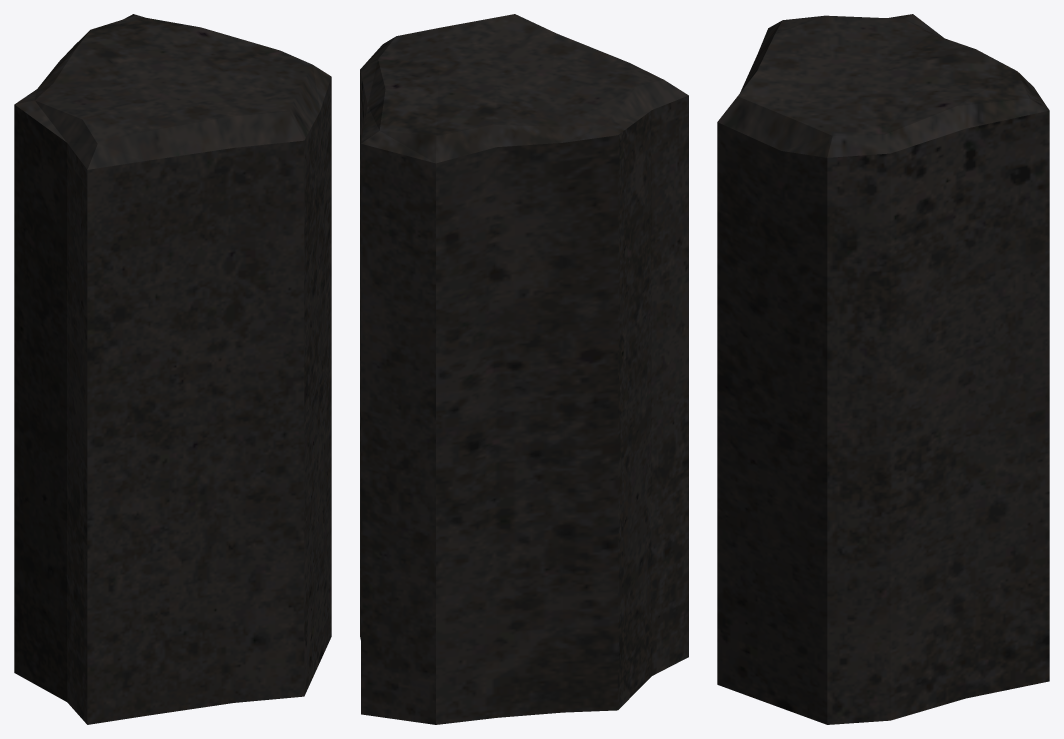
File: TrapFloorS01.fbx
The picture shows the model from 3 angles, left to right: view 1: azimuth 30°, elevation 25°; view 2: azimuth 150°, elevation 25°; view 3: azimuth 270°, elevation 25°; orthographic projection.
Visible parts, largest first — view 1: SM_ENV_NATURE_Cave_Floor_Trap_17.mo; view 2: SM_ENV_NATURE_Cave_Floor_Trap_17.mo; view 3: SM_ENV_NATURE_Cave_Floor_Trap_17.mo.
Part boxes in pixels (box(x1,y1,x2,y2)): SM_ENV_NATURE_Cave_Floor_Trap_17.mo: box(14, 14, 331, 724); SM_ENV_NATURE_Cave_Floor_Trap_17.mo: box(360, 14, 688, 724); SM_ENV_NATURE_Cave_Floor_Trap_17.mo: box(717, 14, 1049, 724).
Bounding box in the file's own units: 91.1 × 183 × 94.32.
1 material, 1 textured.
